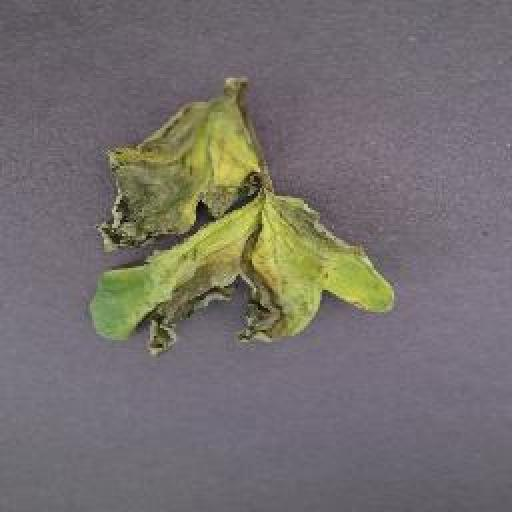disease_tomato: (94, 86, 398, 358)
